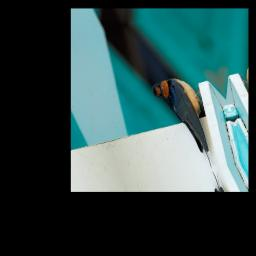Swallow: (146, 71, 226, 177)
